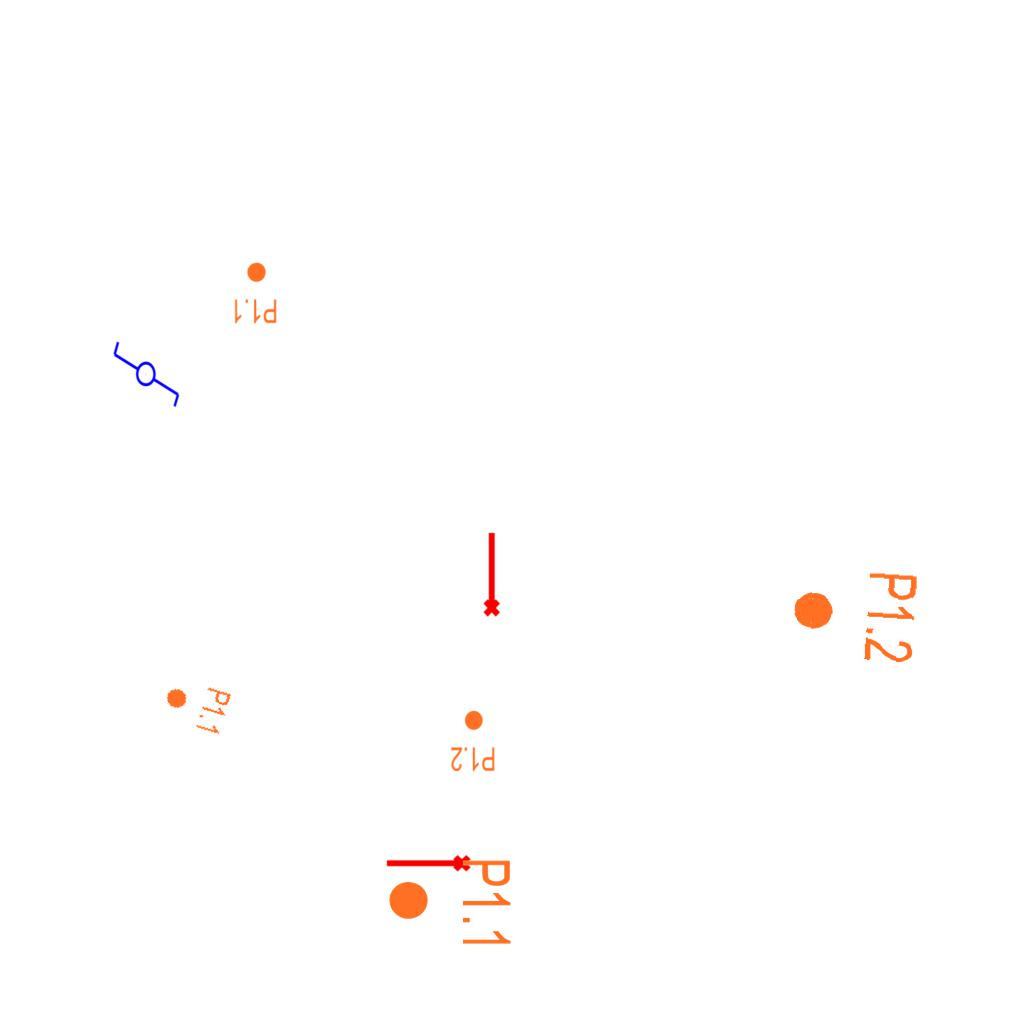ASR_Ansaugoeffnung: (384, 853, 472, 876), (479, 530, 502, 618)
Downlight_LED_Einbauleuchten_Flur: (787, 564, 922, 666), (386, 857, 514, 950), (158, 674, 234, 738), (232, 261, 278, 325), (450, 709, 496, 773)
Wechselschalter: (111, 331, 183, 409)
